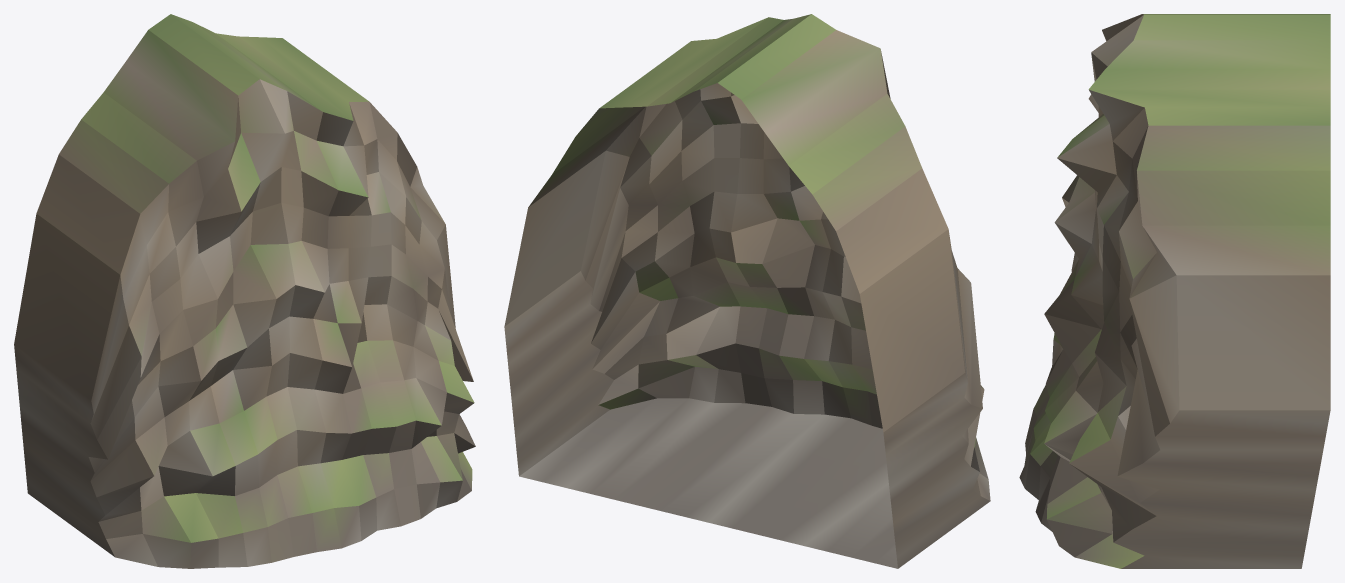
The model's file is geo_outcrop_ridge_tall.glb.
The picture shows the model from 3 angles, left to right: view 1: azimuth 30°, elevation 25°; view 2: azimuth 150°, elevation 25°; view 3: azimuth 270°, elevation 25°; orthographic projection. The views are drawn at different scales.
Parts seen in each view (by area): view 1: geo_outcrop_ridge_tall; view 2: geo_outcrop_ridge_tall; view 3: geo_outcrop_ridge_tall.
Part boxes in pixels (x1,y1,x2,y2): geo_outcrop_ridge_tall: [14, 14, 475, 568]; geo_outcrop_ridge_tall: [504, 14, 990, 568]; geo_outcrop_ridge_tall: [1019, 14, 1330, 568].
Size of the model in its own units: 3 by 3.45 by 2.16.
